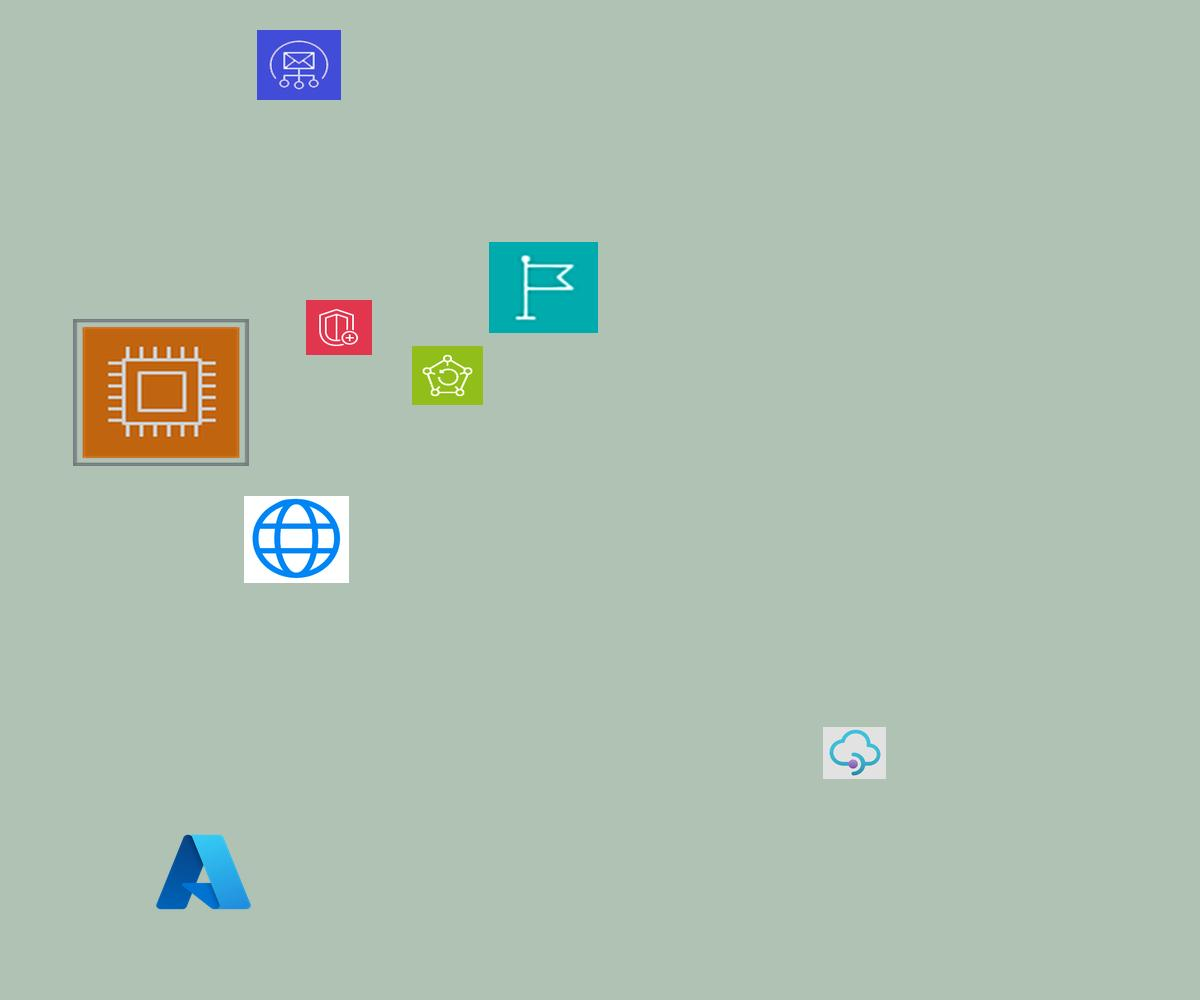AWS-Backup: (412, 346, 483, 405)
AWS-Category_Compute: (73, 319, 249, 466)
AWS-Region: (489, 242, 598, 333)
AWS-Shield: (306, 300, 372, 355)
AWS-Simple-Email-Service: (257, 30, 341, 100)
Azure_api_gateway: (823, 727, 886, 779)
Azure_http: (244, 496, 349, 583)
Azure_services: (152, 829, 255, 915)
